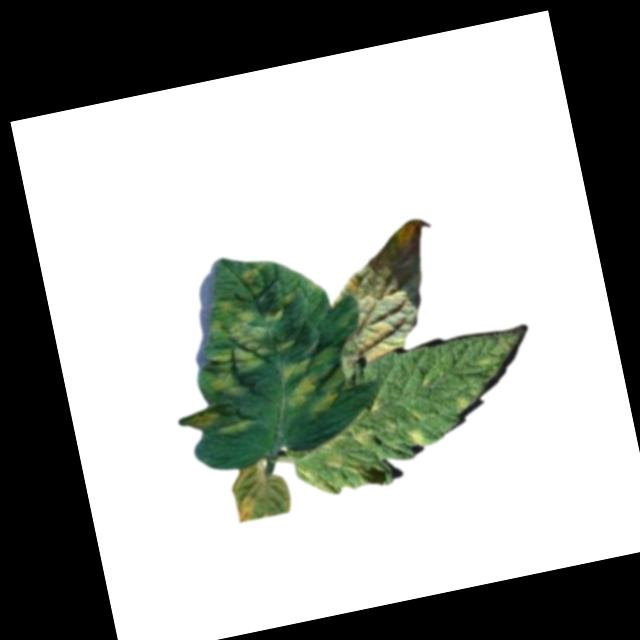Leaf_Mold: (318, 216, 444, 364), (193, 288, 309, 399), (293, 419, 386, 501), (273, 341, 349, 417), (225, 459, 293, 524), (182, 400, 250, 446), (447, 383, 474, 417), (401, 423, 430, 450), (238, 262, 262, 281)
